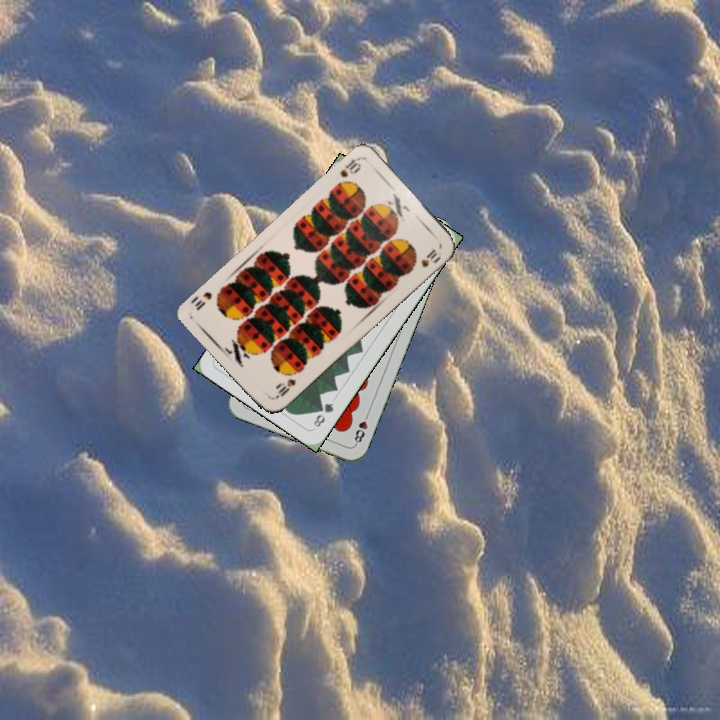G8: (309, 399, 336, 430)
H8: (350, 408, 372, 447)
S10: (269, 375, 299, 401), (336, 154, 364, 180)
